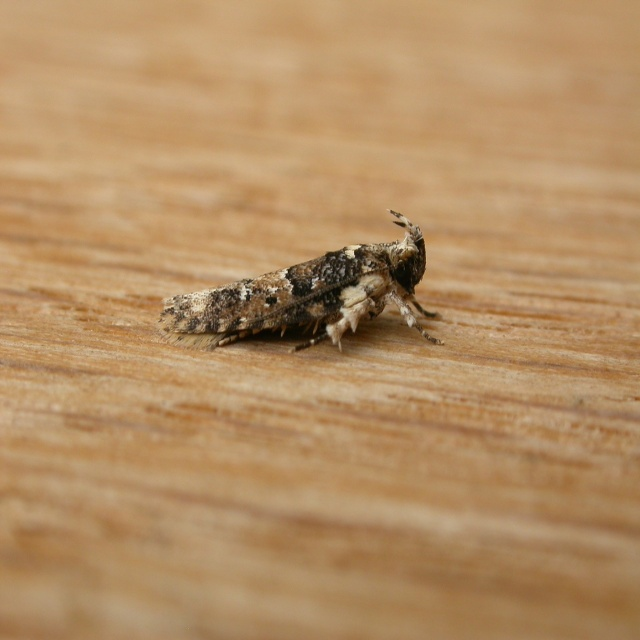Moths and butterflies: (154, 207, 444, 358)
